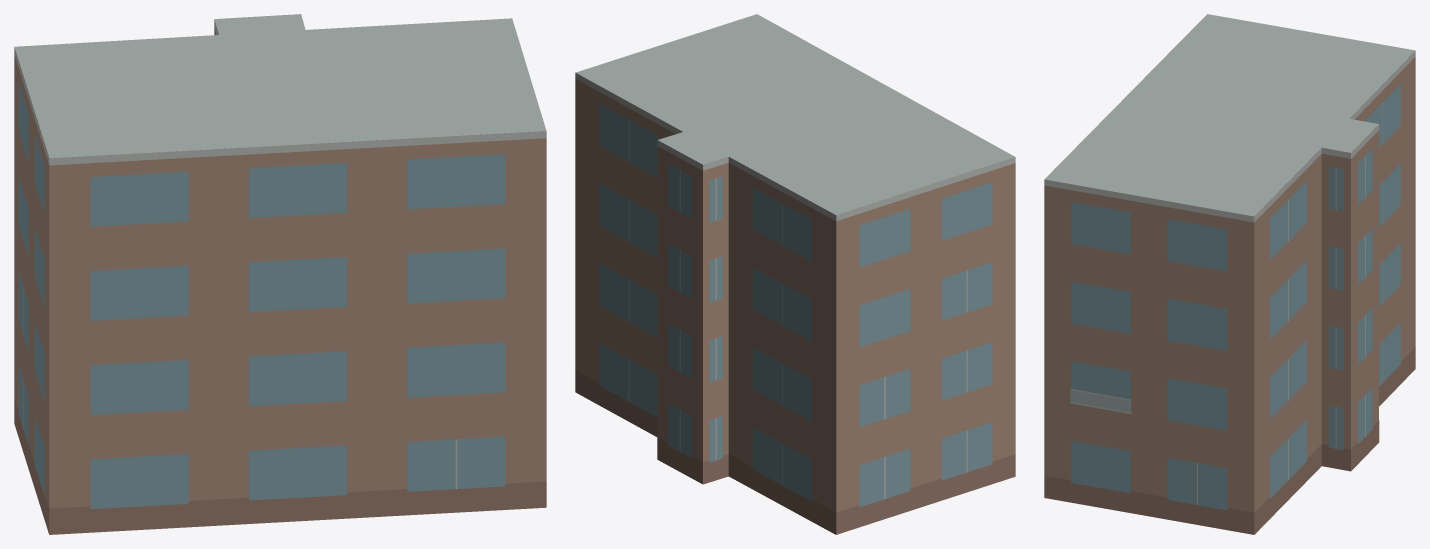
Rendered from survey-upis-32502099.glb.
3 renders of one model, left to right at view 1: azimuth 30°, elevation 25°; view 2: azimuth 150°, elevation 25°; view 3: azimuth 270°, elevation 25°, orthographic. The views are drawn at different scales.
Visible parts, largest first — view 1: survey-upis-32502099.tmp; view 2: survey-upis-32502099.tmp; view 3: survey-upis-32502099.tmp.
Boxes of the visible parts, <box> form: survey-upis-32502099.tmp: <box>14,14,546,534</box>; survey-upis-32502099.tmp: <box>575,14,1015,534</box>; survey-upis-32502099.tmp: <box>1044,14,1415,534</box>.
Size of the model in its own units: 17.67 by 12.95 by 13.7.
